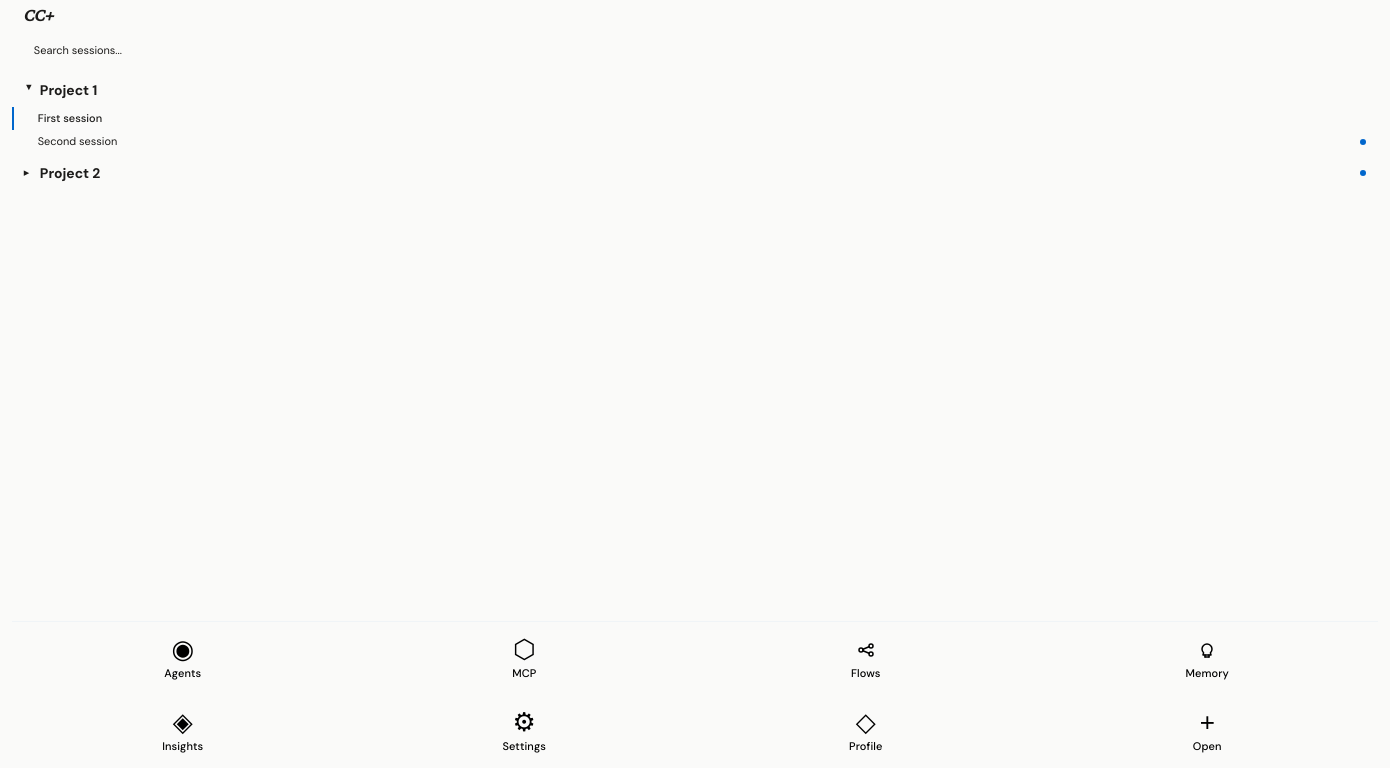
ProjectSidebar Search Integration › highlights search term in results
The width and height of the screenshot is (1390, 768).
Step 1. Type "search" into the field with placeholder "Search sessions..." → (695, 50), box x1=24 y1=37 x2=1366 y2=63
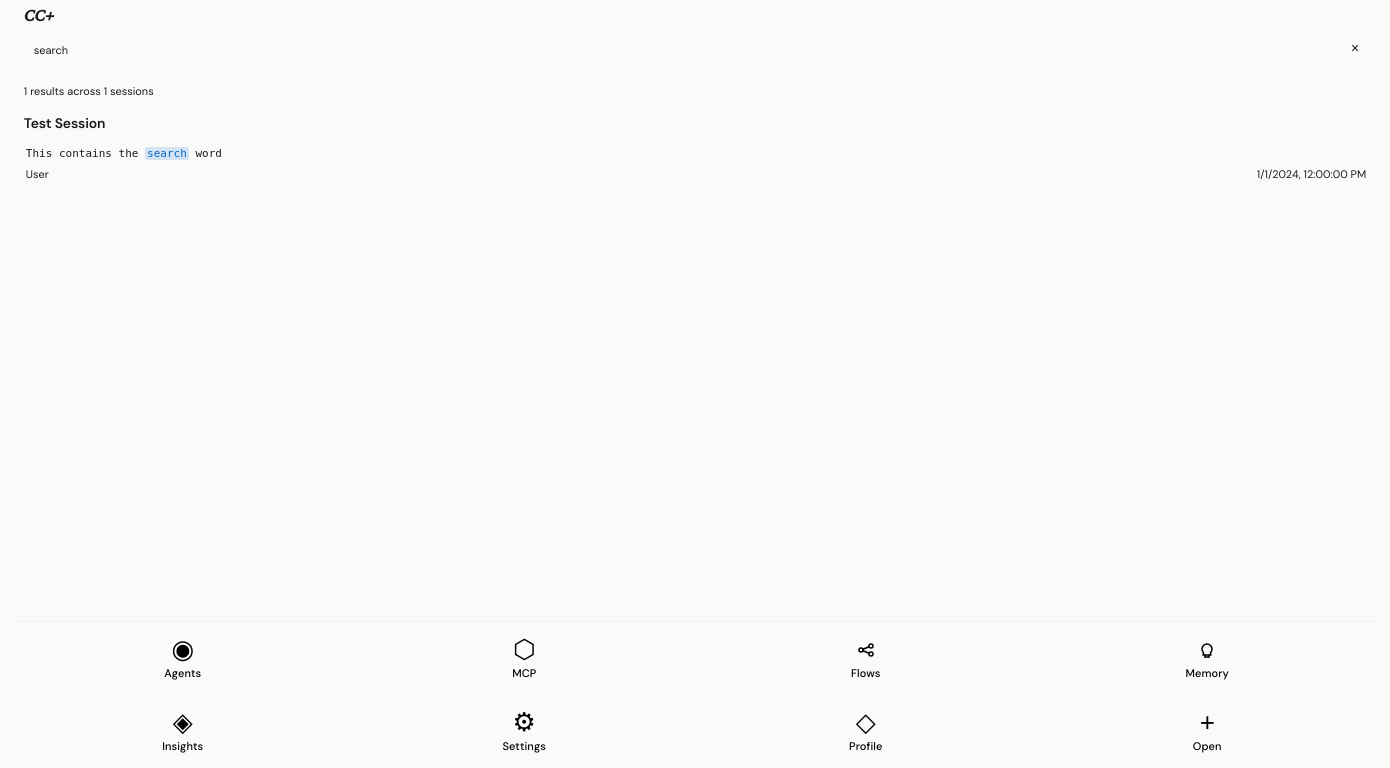
Expected: the text "search" is shown, x1=145 y1=147 x2=189 y2=160
Expected: the text with class "search-highlight" reads "search", x1=147 y1=147 x2=187 y2=160
